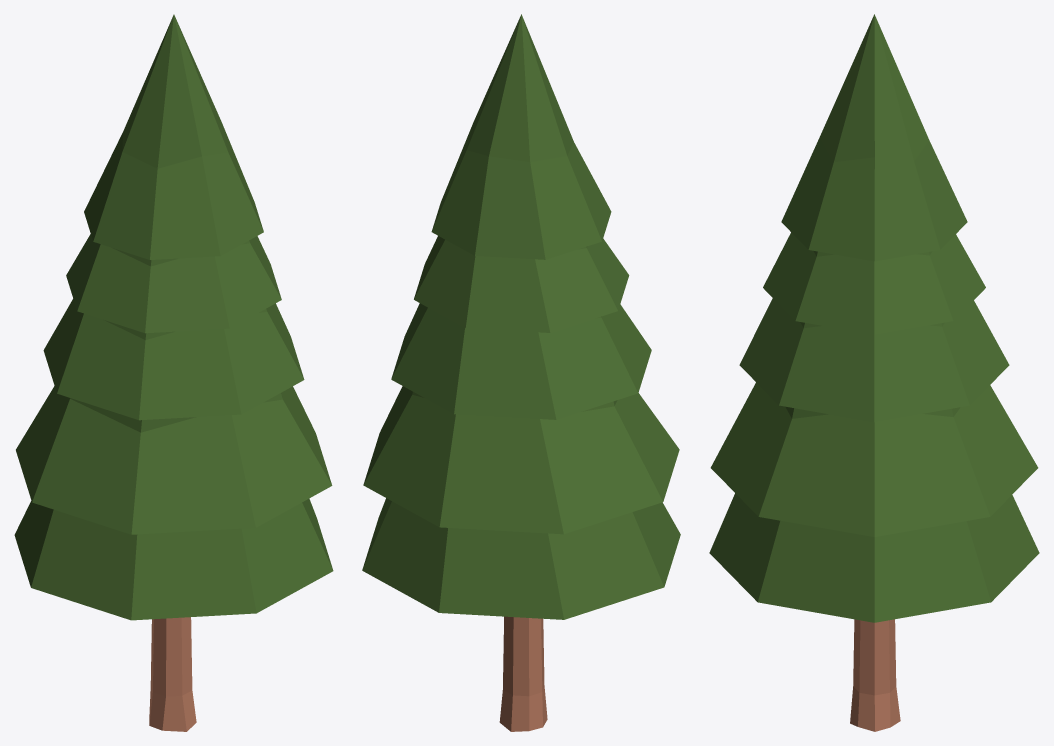
The model's file is tree.fbx.
3 renders of one model, left to right at view 1: azimuth 30°, elevation 25°; view 2: azimuth 150°, elevation 25°; view 3: azimuth 270°, elevation 25°, orthographic.
Visible parts, largest first — view 1: tree02; view 2: tree02; view 3: tree02.
Part boxes in pixels (box(x1,y1,x2,y2)): tree02: box(14, 14, 333, 731); tree02: box(362, 14, 680, 731); tree02: box(709, 14, 1039, 731).
Size of the model in its own units: 123 by 292 by 123.
